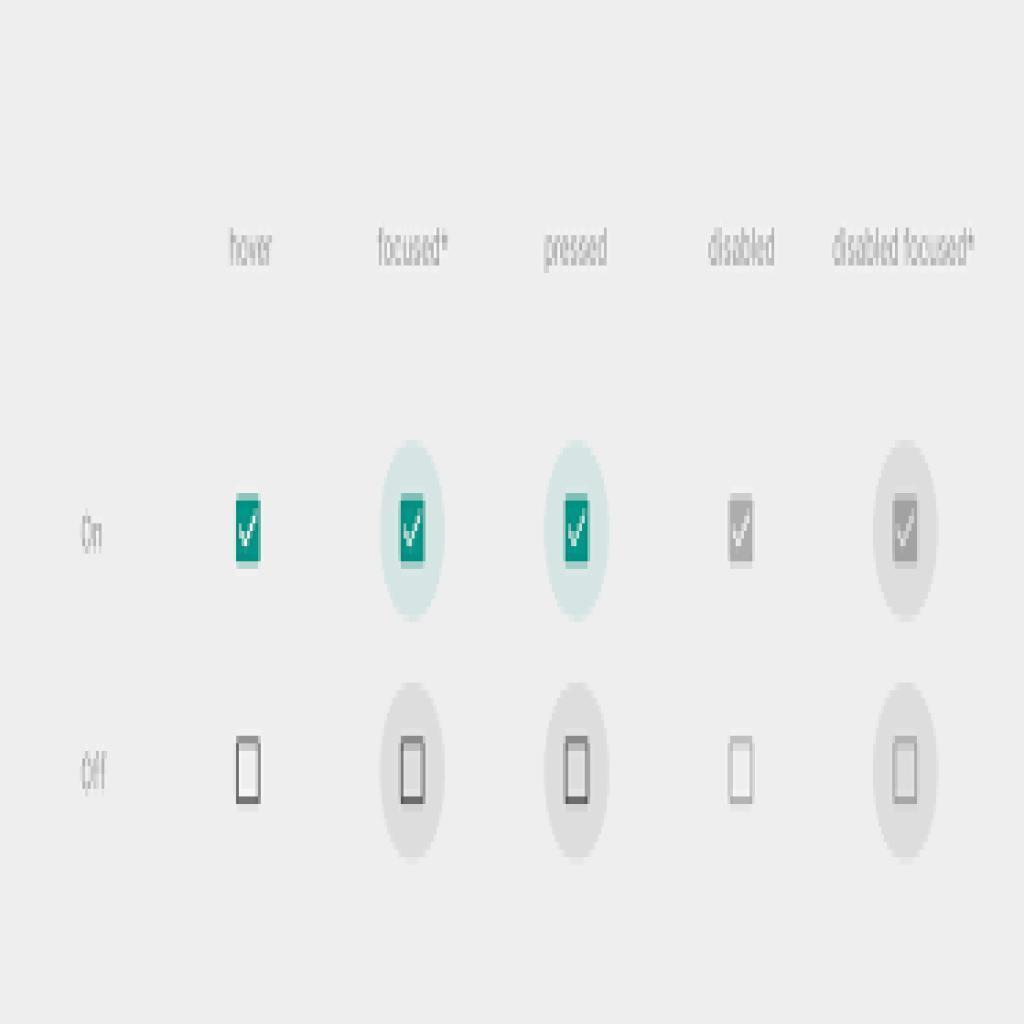checkbox: (562, 493, 592, 567), (399, 492, 428, 566), (234, 493, 263, 566), (891, 734, 919, 808), (891, 491, 917, 566), (726, 494, 753, 566), (564, 734, 590, 806), (400, 734, 426, 802), (236, 734, 261, 803), (729, 736, 754, 805)
